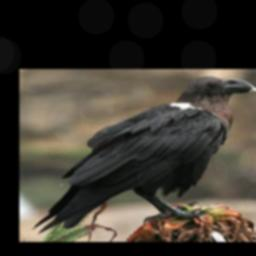Crow: (30, 75, 253, 234)
